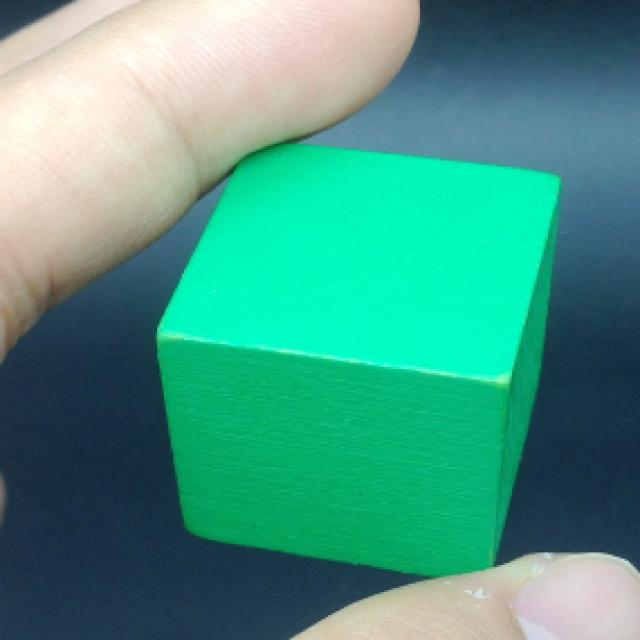green cube: (155, 144, 564, 582)
